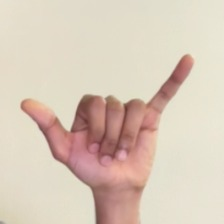Y: (1, 48, 198, 204)
